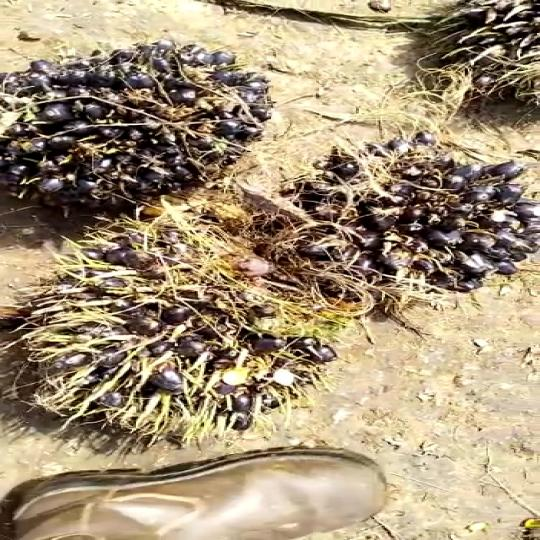mentah: (0, 227, 350, 445), (0, 26, 258, 212), (296, 127, 540, 298)
